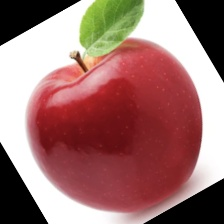apple: (33, 0, 216, 193)
